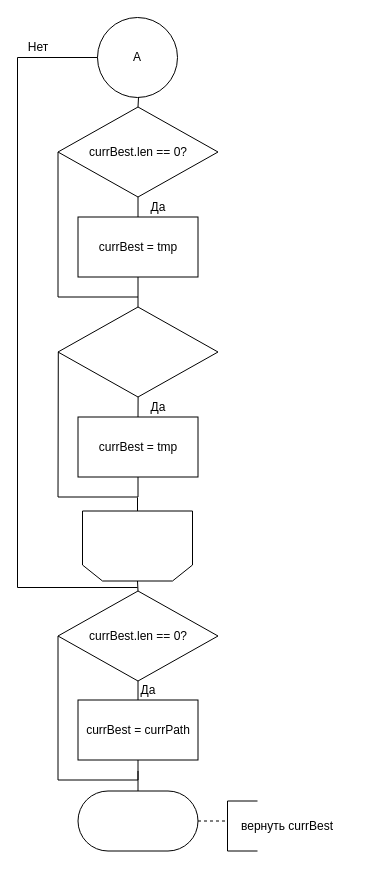
The diagram is 365 pixels wide and 870 high, and some of its shapes have lost their labels. Here are the shapes that lost their labels. From the top down, the centre of each, then its label:
point (137, 351): currBest.len > tmp.len?
point (137, 545): Конец цикла
point (137, 820): Конец
